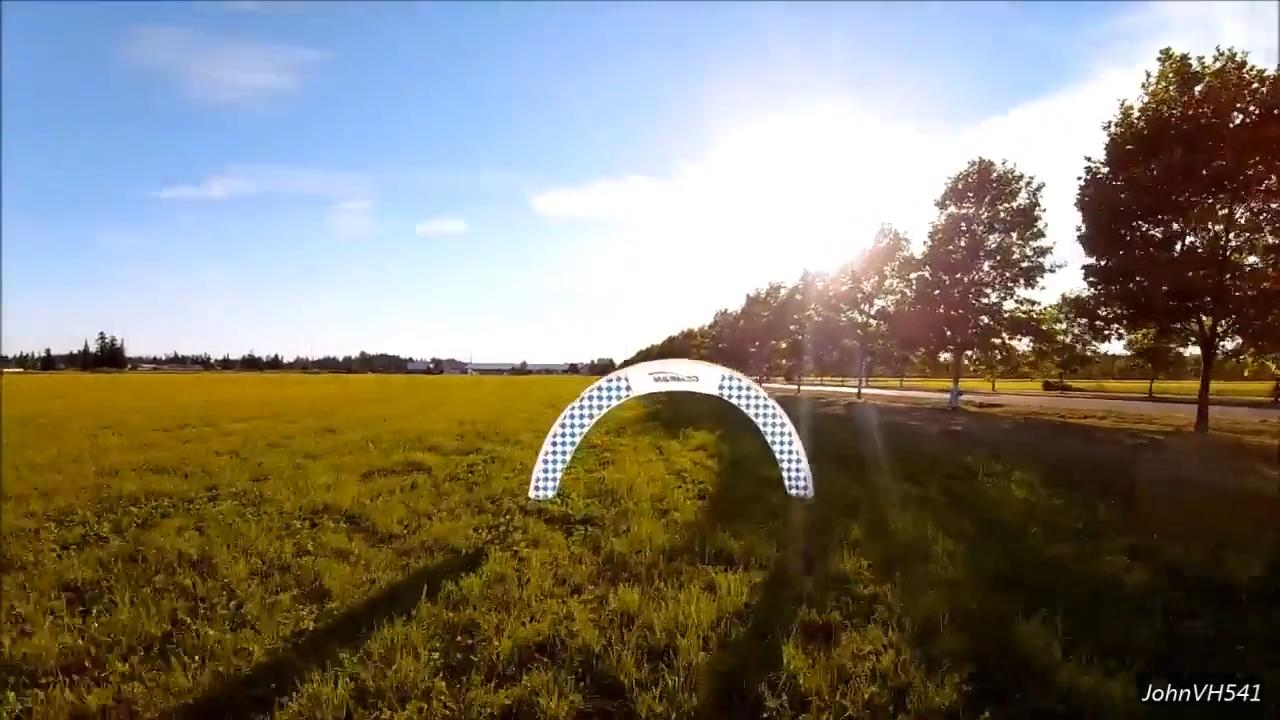gate: (528, 358, 816, 501)
